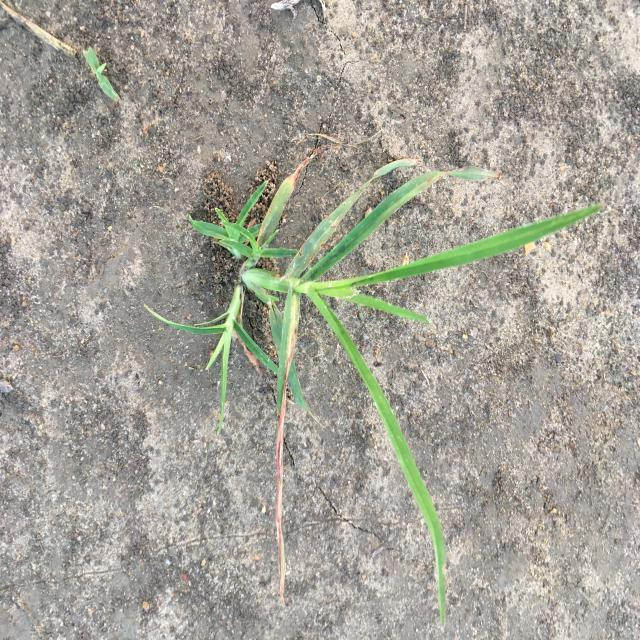Goosegrass: (141, 132, 607, 624)
